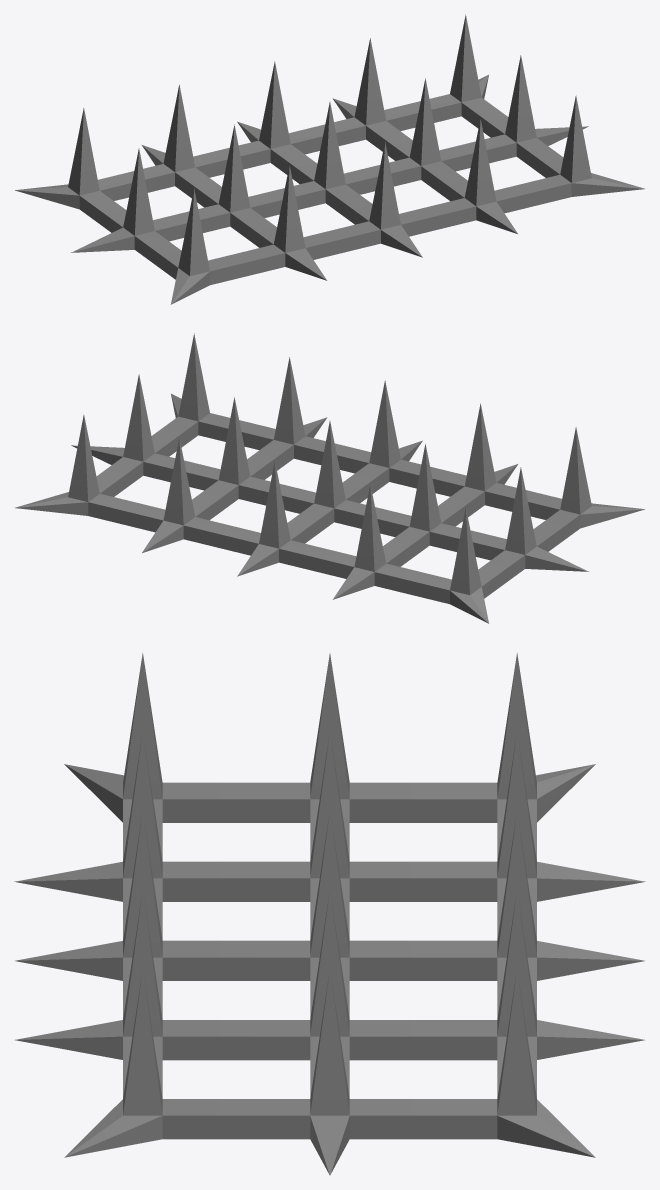
The model's file is Mini_Iron_Barrier_2.fbx.
3 renders of one model, top to bottom at view 1: azimuth 30°, elevation 25°; view 2: azimuth 150°, elevation 25°; view 3: azimuth 270°, elevation 25°, orthographic. The views are drawn at different scales.
Parts seen in each view (by area): view 1: Mini_Iron_Barrier_2; view 2: Mini_Iron_Barrier_2; view 3: Mini_Iron_Barrier_2.
Part boxes in pixels (x1,y1,x2,y2): Mini_Iron_Barrier_2: (15,14,644,304); Mini_Iron_Barrier_2: (15,333,644,623); Mini_Iron_Barrier_2: (14,652,645,1175).
Size of the model in its own units: 181 by 31.9 by 113.
1 material, 1 textured.
